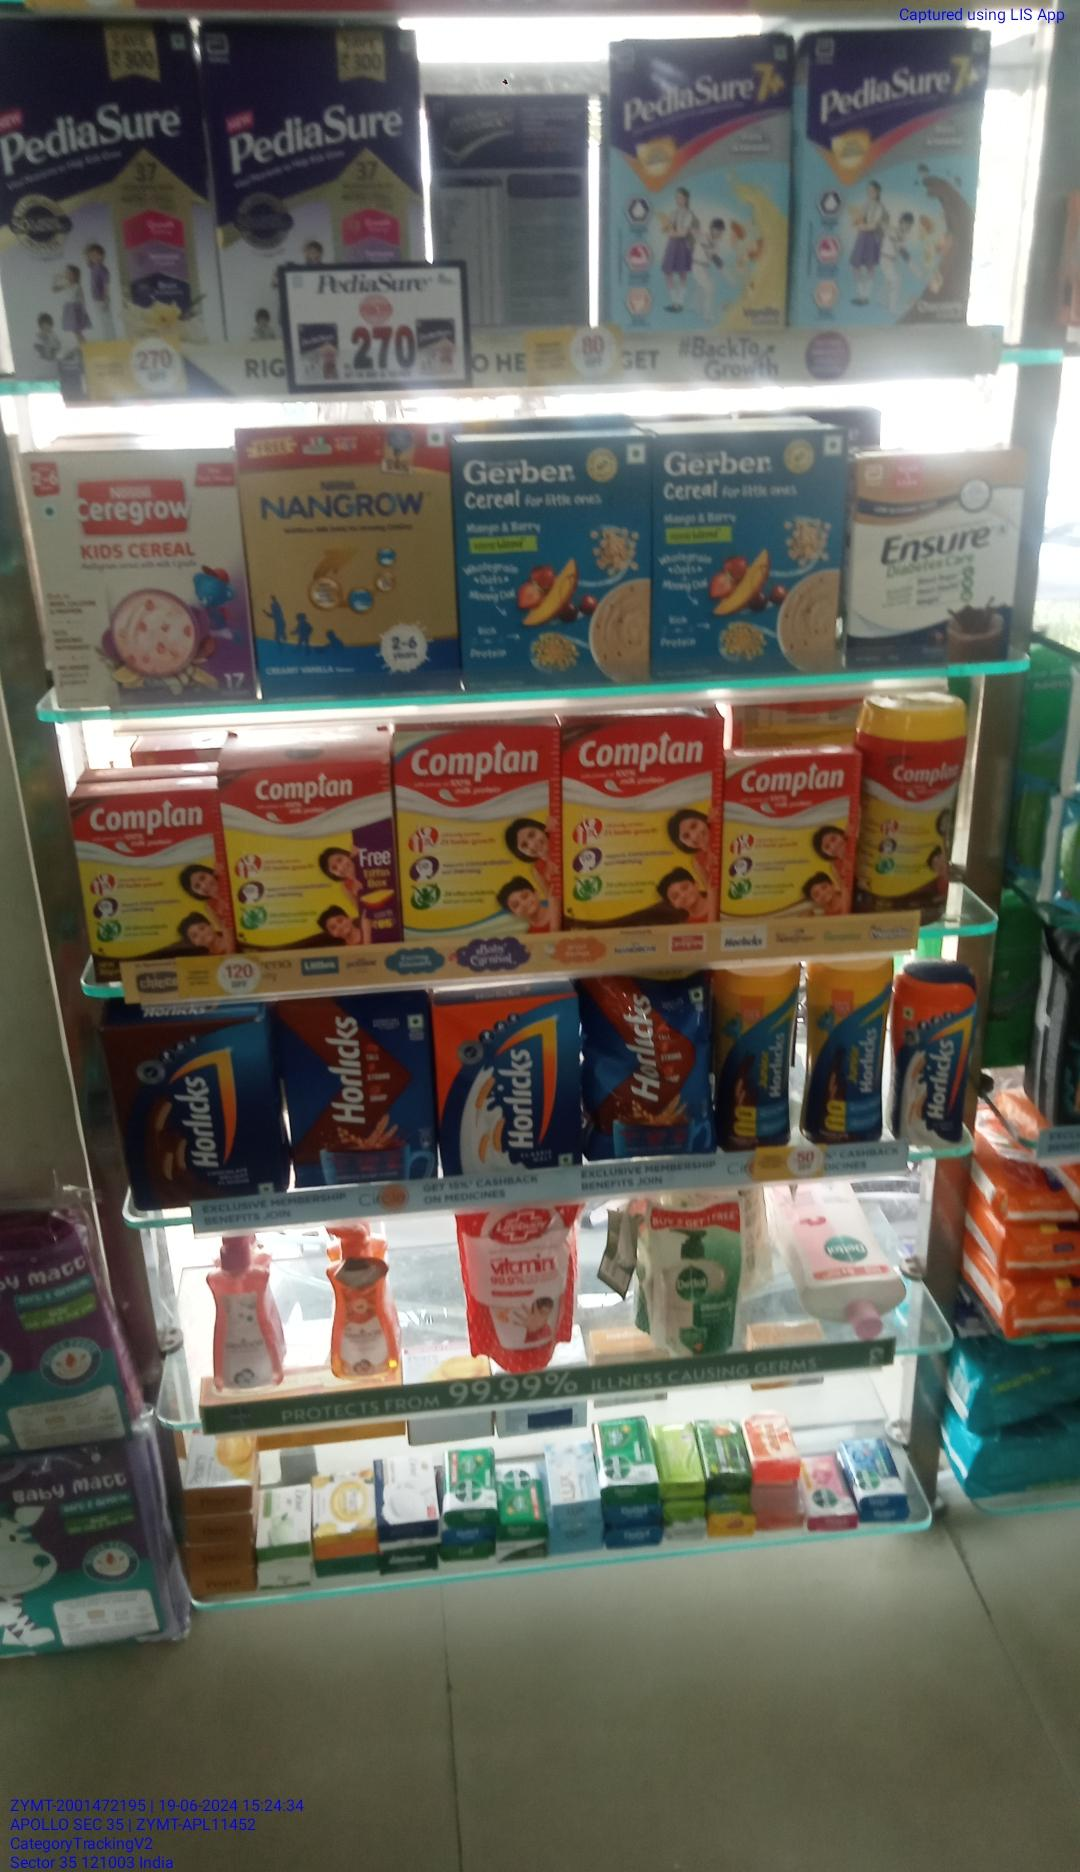COMPLAN_CHOCOLATE_500_GMS_JAR: (865, 697, 957, 917)
COMPLAN_KESAR_BADAM_200_GMS_PACK: (724, 755, 856, 923)
HORLICK_CLASSIC_MALT_200_G_JAR: (896, 973, 971, 1149)
HORLICK_CLASSIC_MALT_500_G_PACK: (442, 1002, 576, 1171)
PEDIASURE_7_PLUS_CHOCOLATE_400_G_PACK: (798, 31, 973, 324)
PEDIASURE_VANILLA_500_G_PACK: (1, 17, 203, 337)
